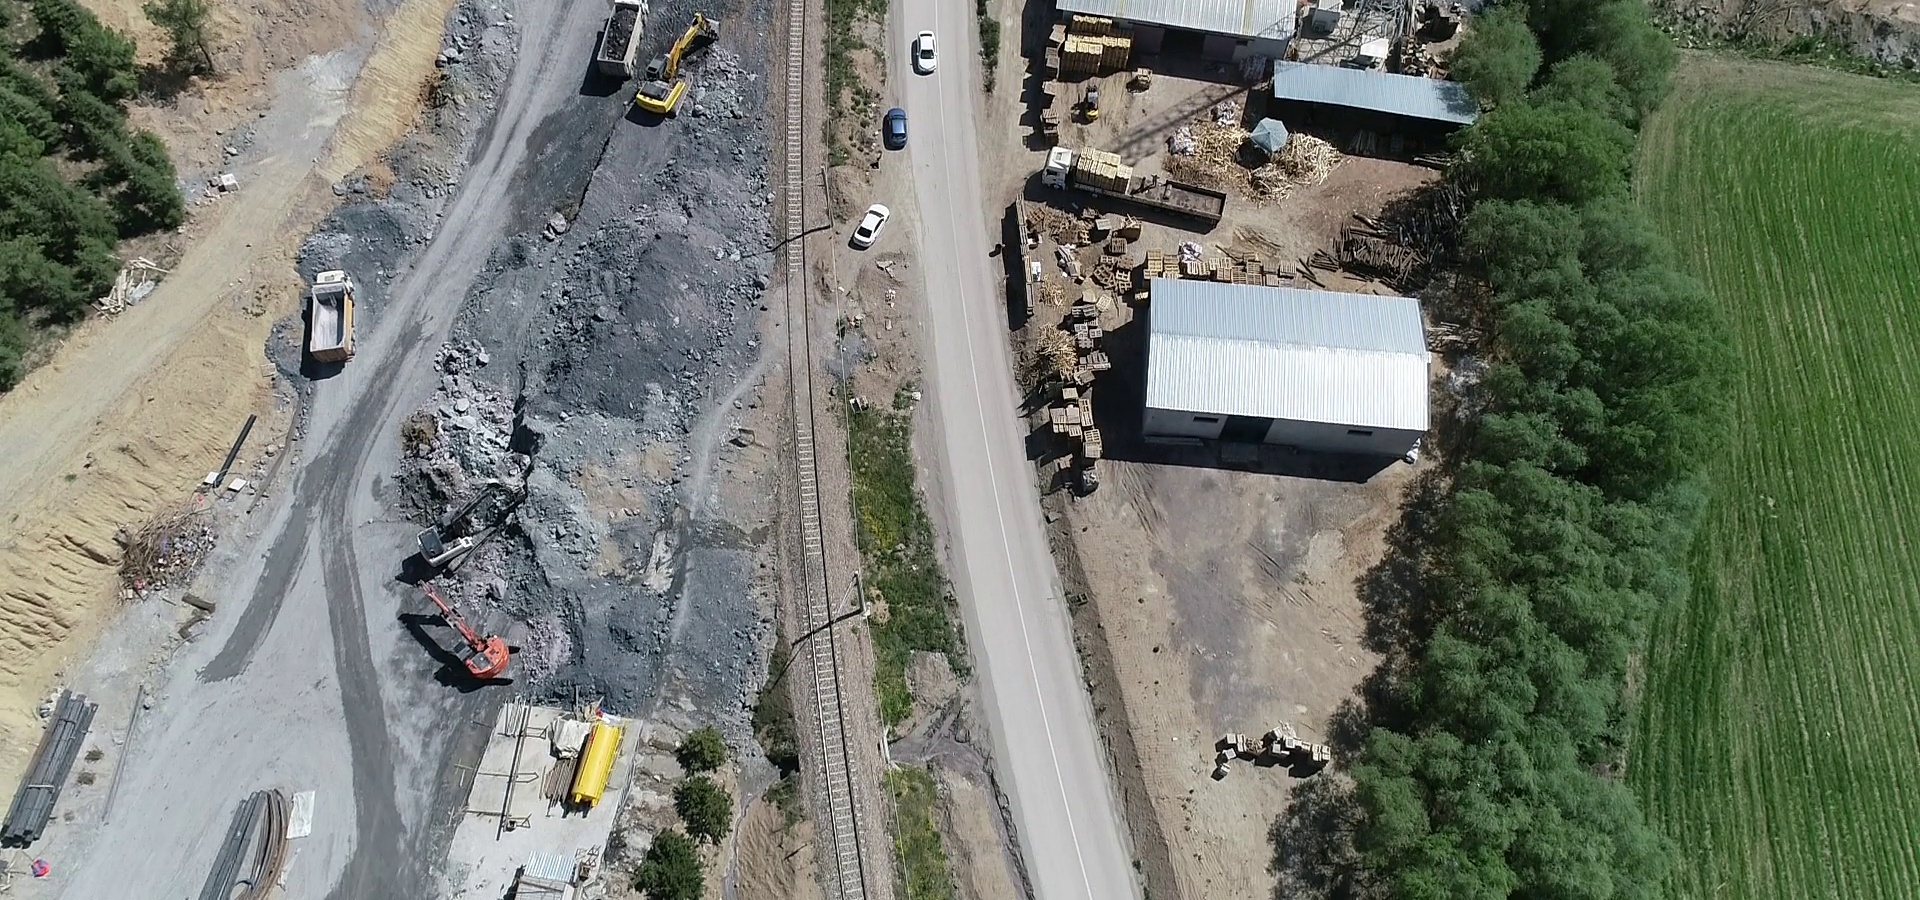arac: (1035, 140, 1233, 224), (416, 571, 535, 694), (633, 10, 758, 126), (407, 463, 534, 572), (291, 253, 362, 373), (595, 1, 648, 84), (849, 195, 894, 251), (871, 104, 913, 160), (907, 28, 947, 81)
